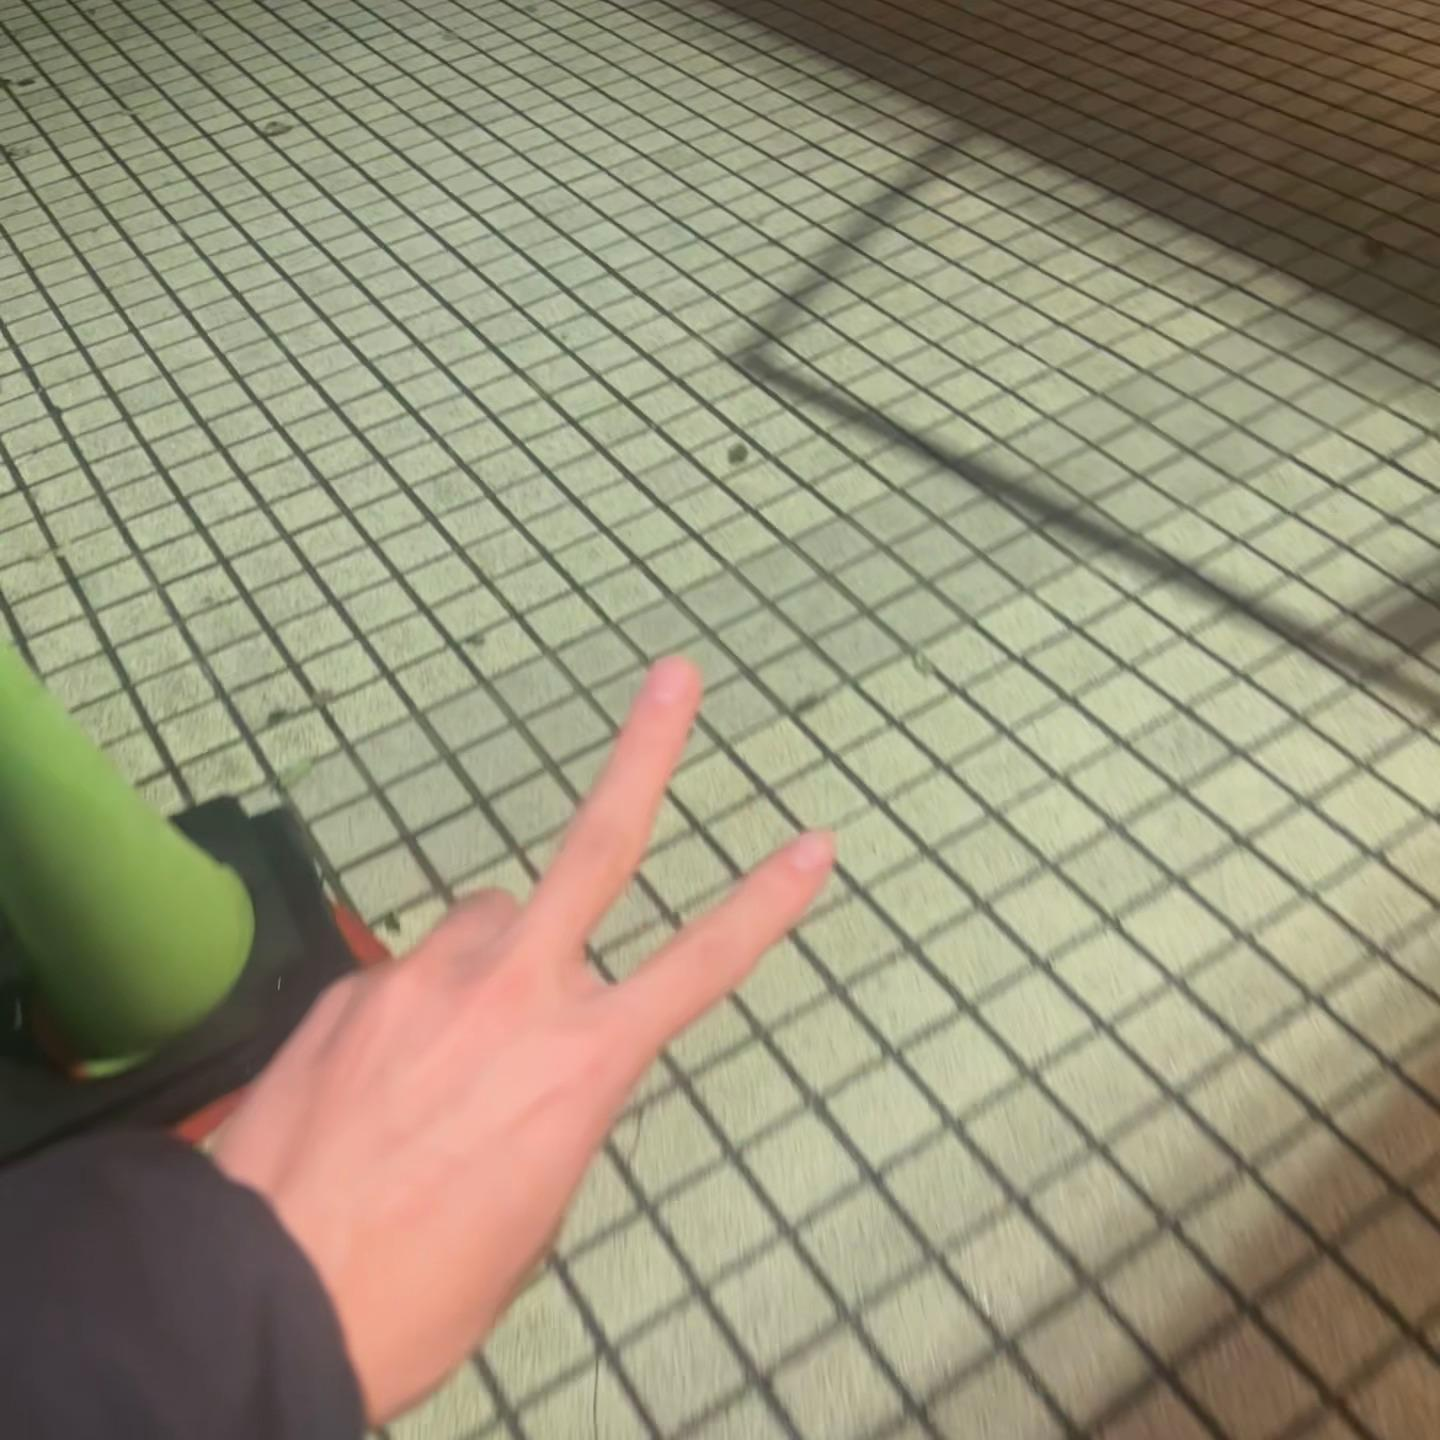without_gloves: (235, 572, 874, 1323)
